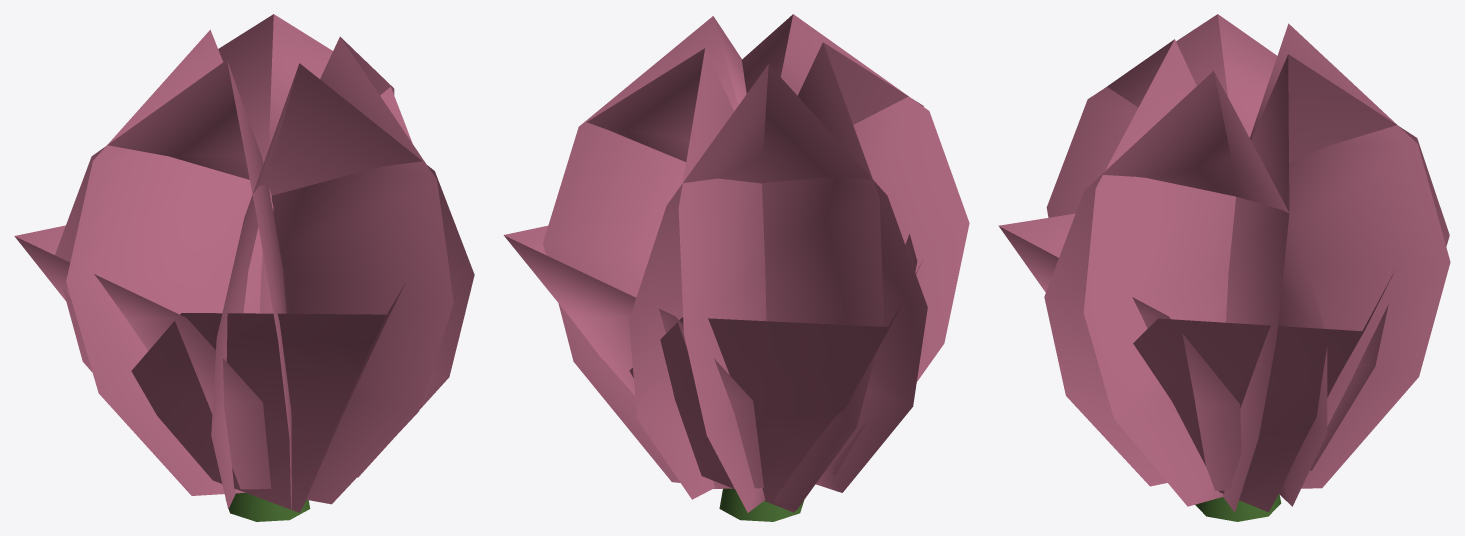
The model's file is lotus_bud.glb.
3 renders of one model, left to right at view 1: azimuth 30°, elevation 25°; view 2: azimuth 150°, elevation 25°; view 3: azimuth 270°, elevation 25°, orthographic.
Parts seen in each view (by area): view 1: lotus_bud, lotus_bud_stem; view 2: lotus_bud, lotus_bud_stem; view 3: lotus_bud, lotus_bud_stem.
Part boxes in pixels (box(x1,y1,x2,y2)): lotus_bud: box(14, 14, 474, 512); lotus_bud_stem: box(229, 493, 310, 521); lotus_bud: box(503, 14, 969, 512); lotus_bud_stem: box(719, 488, 804, 521); lotus_bud: box(998, 14, 1450, 512); lotus_bud_stem: box(1195, 494, 1281, 521).
Size of the model in its own units: 0.1115 by 0.1287 by 0.1135.
